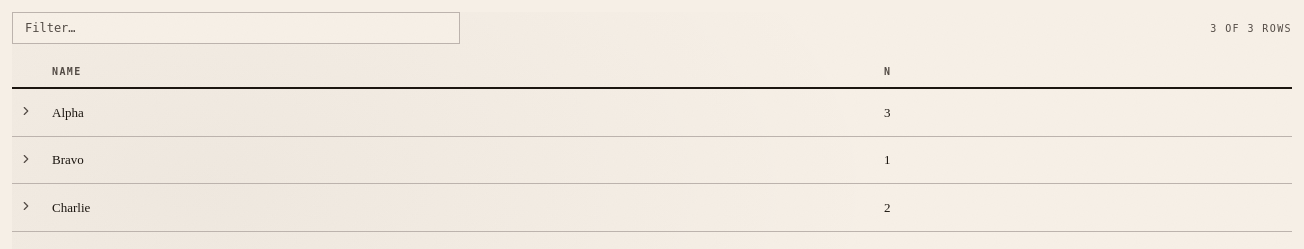
Scenario: ExpandableTable › renders a search input and filters rows when searchable
Type "brav" into the field with placeholder "Filter…" at (236, 28), box [12,12,460,44]
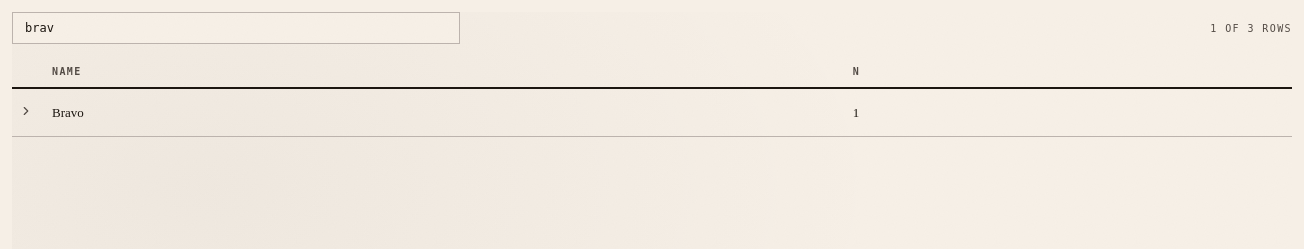
Expected: the text "Bravo" is shown, [40,88,841,136]
Expected: the text "Alpha" is gone
